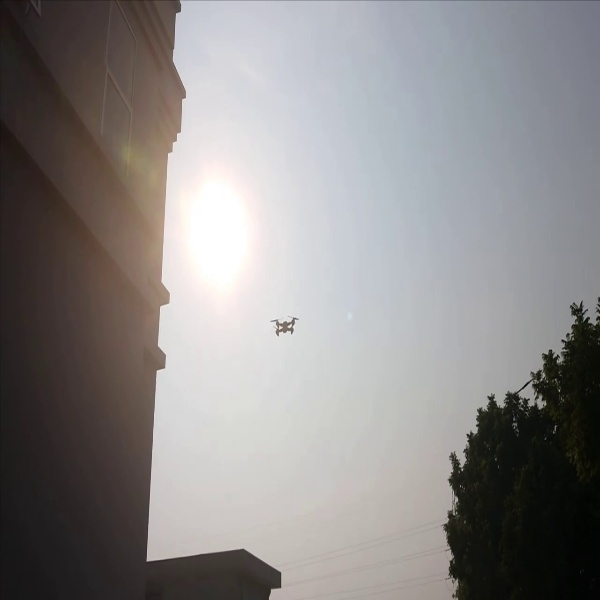drone: (270, 306, 303, 342)
